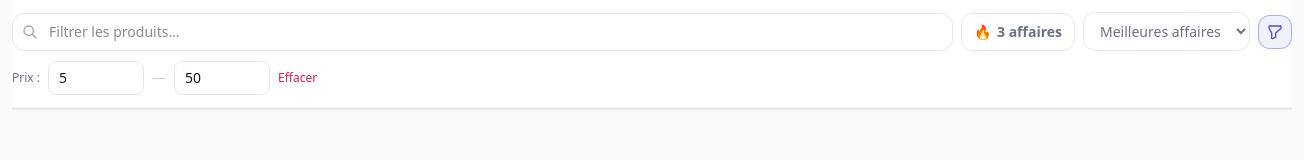
Test case: ProductFilters › bornes de prix › efface les deux bornes d’un coup
Click the button "Effacer" at (298, 78), box [278, 70, 317, 86]
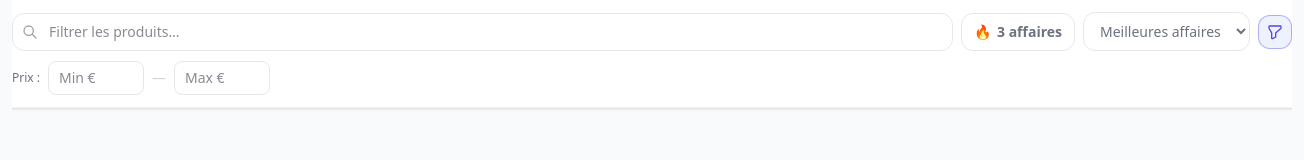
Result: the number field with placeholder "Min €" is not empty at [48, 61, 144, 95]
